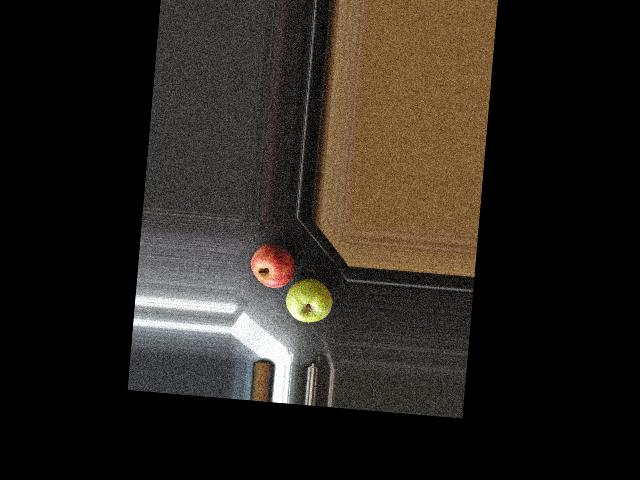apple: (247, 240, 294, 290)
